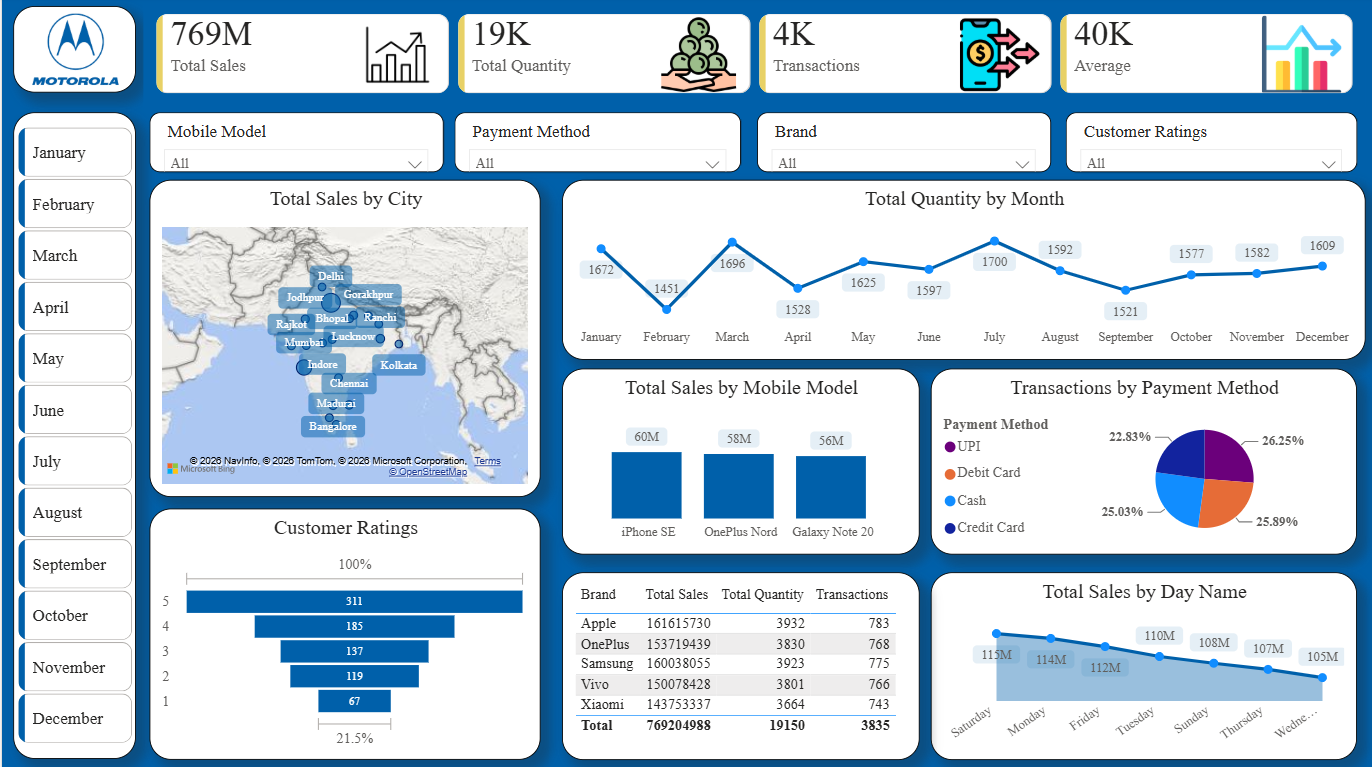

This screenshot's page, from the dashboard's own definition file:
{"tool":"powerbi","page":{"name":"Page 1","canvas":[1280,720],"ordinal":0},"visuals":[{"type":"shape","box":[10.5,9.3,114.3,80.5],"z":0},{"type":"image","box":[21,9.3,95.6,80.5],"z":1000},{"type":"shape","box":[10.5,108.4,114.3,602.8],"z":2000},{"type":"advancedSlicerVisual","fields":{"Values":["Sales_Data.Date.Variation.Date Hierarchy.Month"]},"box":[10.5,117.8,116.6,593.5],"z":3000},{"type":"cardVisual","fields":{"Data":["Sales_Data.Total Sales","Sales_Data.Total Quantity","Sales_Data.Transactions","Sales_Data.Average"]},"box":[127.1,0,1153.1,108.4],"z":4000},{"type":"map","fields":{"Category":["Sales_Data.City"],"Size":["Sales_Data.Total Sales"]},"box":[137.6,171.4,364.9,296.2],"z":5000},{"type":"lineChart","fields":{"Y":["Sales_Data.Total Quantity"],"Category":["Sales_Data.Date.Variation.Date Hierarchy.Month","Sales_Data.Date.Variation.Date Hierarchy.Day"]},"box":[522.4,171.4,749.7,167.9],"z":6000},{"type":"clusteredColumnChart","fields":{"Y":["Sales_Data.Total Sales"],"Category":["Sales_Data.Mobile Model"]},"box":[522.4,347.5,333.5,173.7],"z":7000},{"type":"pieChart","fields":{"Category":["Sales_Data.Payment Method"],"Y":["Sales_Data.Transactions"]},"box":[866.3,347.5,397.6,173.7],"z":8000},{"type":"funnel","title":"Customer Ratings ","fields":{"Category":["Sales_Data.Customer Ratings"],"Y":["CountNonNull(Sales_Data.Customer Ratings)"]},"box":[137.6,478,364.9,234.4],"z":9000},{"type":"areaChart","fields":{"Category":["Sales_Data.Day Name"],"Y":["Sales_Data.Total Sales"]},"box":[866.3,537.5,397.6,174.9],"z":10000},{"type":"tableEx","fields":{"Values":["Sales_Data.Brand","Sales_Data.Total Sales","Sales_Data.Total Quantity","Sales_Data.Transactions"]},"box":[522.4,537.5,333.5,174.9],"z":11000},{"type":"slicer","fields":{"Values":["Sales_Data.Mobile Model"]},"box":[137.6,108.4,274,56],"z":12000},{"type":"slicer","fields":{"Values":["Sales_Data.Payment Method"]},"box":[422.1,108.4,267,56],"z":13000},{"type":"slicer","fields":{"Values":["Sales_Data.Brand"]},"box":[704.2,108.4,274,56],"z":13001},{"type":"slicer","fields":{"Values":["Sales_Data.Customer Ratings"]},"box":[992.2,108.4,271.7,56],"z":13002}]}

Visuals, with their boxes in screenshot pixels (x1, y1, x2, y2), scaled from the page's 1280x720 canvas onto the 1372x767 screenshot:
shape: {"left": 11, "top": 10, "right": 134, "bottom": 96}
image: {"left": 23, "top": 10, "right": 125, "bottom": 96}
shape: {"left": 11, "top": 115, "right": 134, "bottom": 758}
advancedSlicerVisual - Sales_Data.Date.Variation.Date Hierarchy.Month: {"left": 11, "top": 125, "right": 136, "bottom": 758}
cardVisual - Sales_Data.Total Sales x Sales_Data.Total Quantity: {"left": 136, "top": 0, "right": 1371, "bottom": 115}
map - Sales_Data.City x Sales_Data.Total Sales: {"left": 147, "top": 183, "right": 539, "bottom": 498}
lineChart - Sales_Data.Total Quantity x Sales_Data.Date.Variation.Date Hierarchy.Month: {"left": 560, "top": 183, "right": 1364, "bottom": 361}
clusteredColumnChart - Sales_Data.Total Sales x Sales_Data.Mobile Model: {"left": 560, "top": 370, "right": 917, "bottom": 555}
pieChart - Sales_Data.Payment Method x Sales_Data.Transactions: {"left": 929, "top": 370, "right": 1355, "bottom": 555}
"Customer Ratings " funnel: {"left": 147, "top": 509, "right": 539, "bottom": 759}
areaChart - Sales_Data.Day Name x Sales_Data.Total Sales: {"left": 929, "top": 573, "right": 1355, "bottom": 759}
tableEx - Sales_Data.Brand x Sales_Data.Total Sales: {"left": 560, "top": 573, "right": 917, "bottom": 759}
slicer - Sales_Data.Mobile Model: {"left": 147, "top": 115, "right": 441, "bottom": 175}
slicer - Sales_Data.Payment Method: {"left": 452, "top": 115, "right": 739, "bottom": 175}
slicer - Sales_Data.Brand: {"left": 755, "top": 115, "right": 1049, "bottom": 175}
slicer - Sales_Data.Customer Ratings: {"left": 1064, "top": 115, "right": 1355, "bottom": 175}
